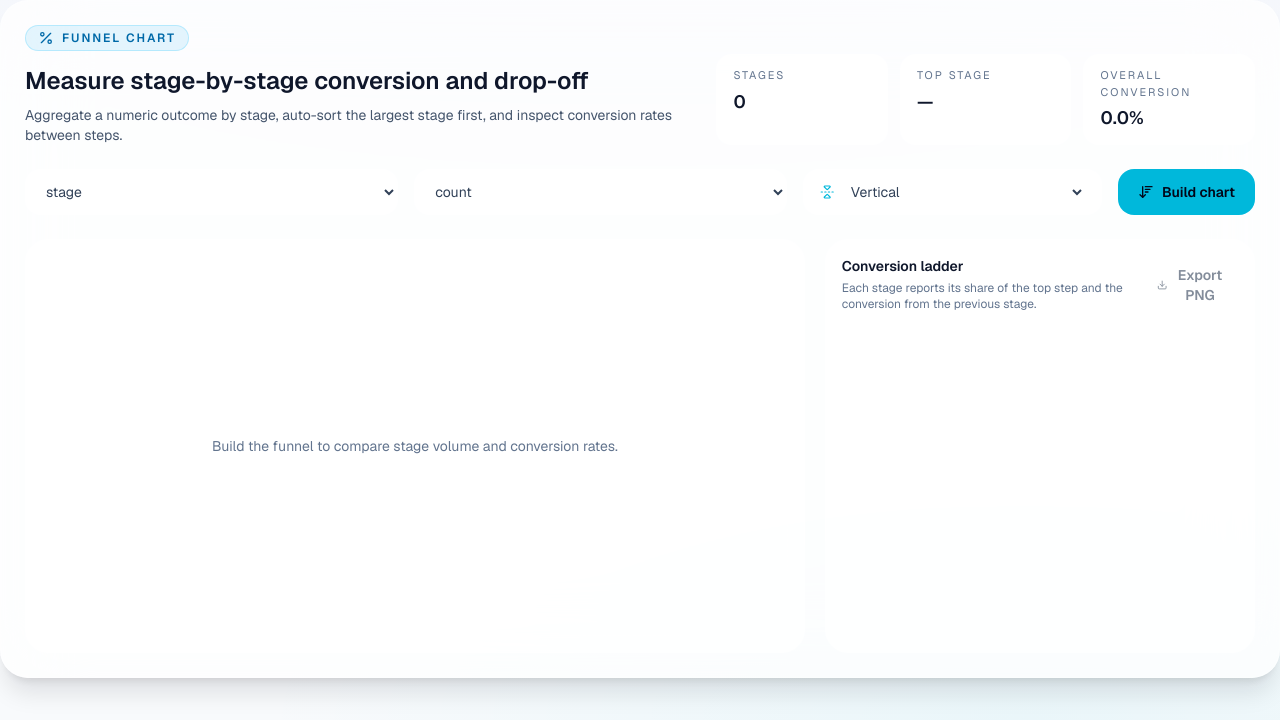
FunnelChart › surfaces query errors in the UI
What coordinates should you click on to do the following:
click the button "Build chart"
I would click on:
 (1186, 192)
Its box is [1118,169,1255,215].
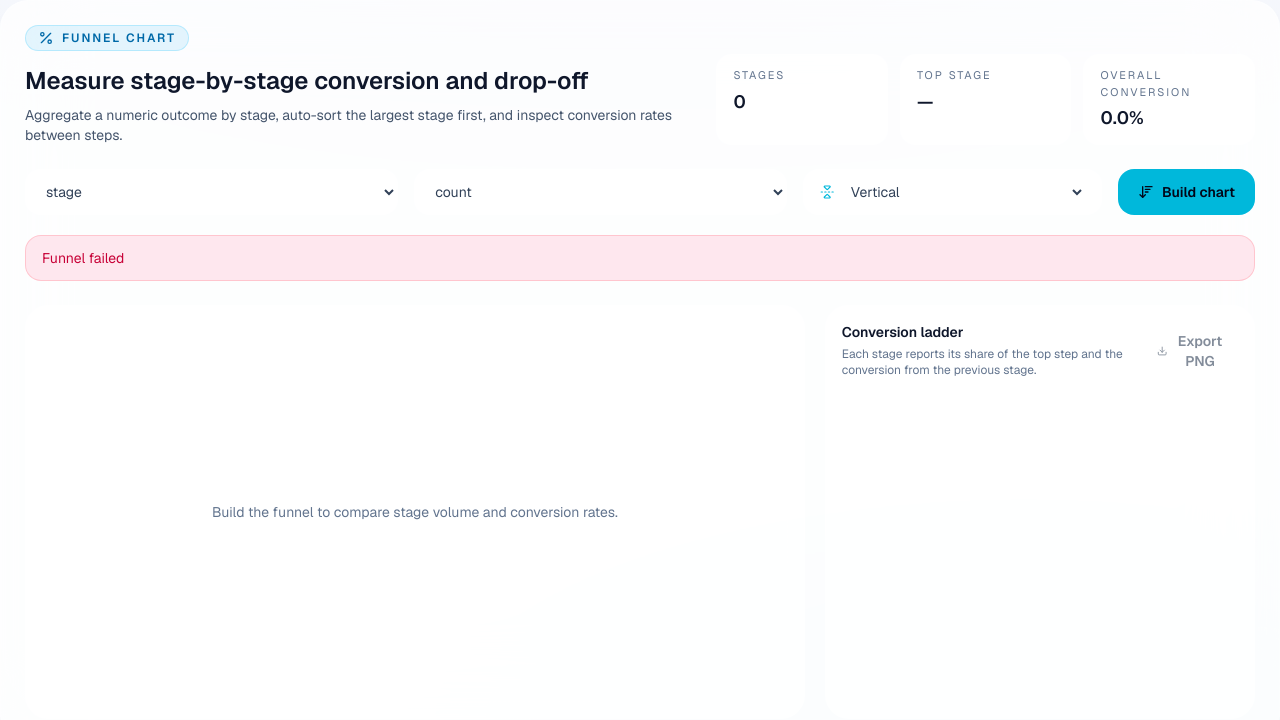
Now the text "Funnel failed" is shown, box [25,235,1255,281]
